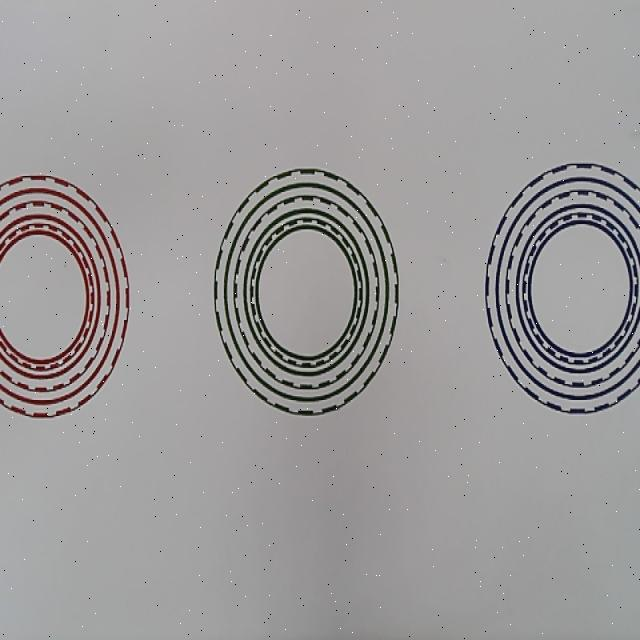g: (213, 166, 398, 416)
